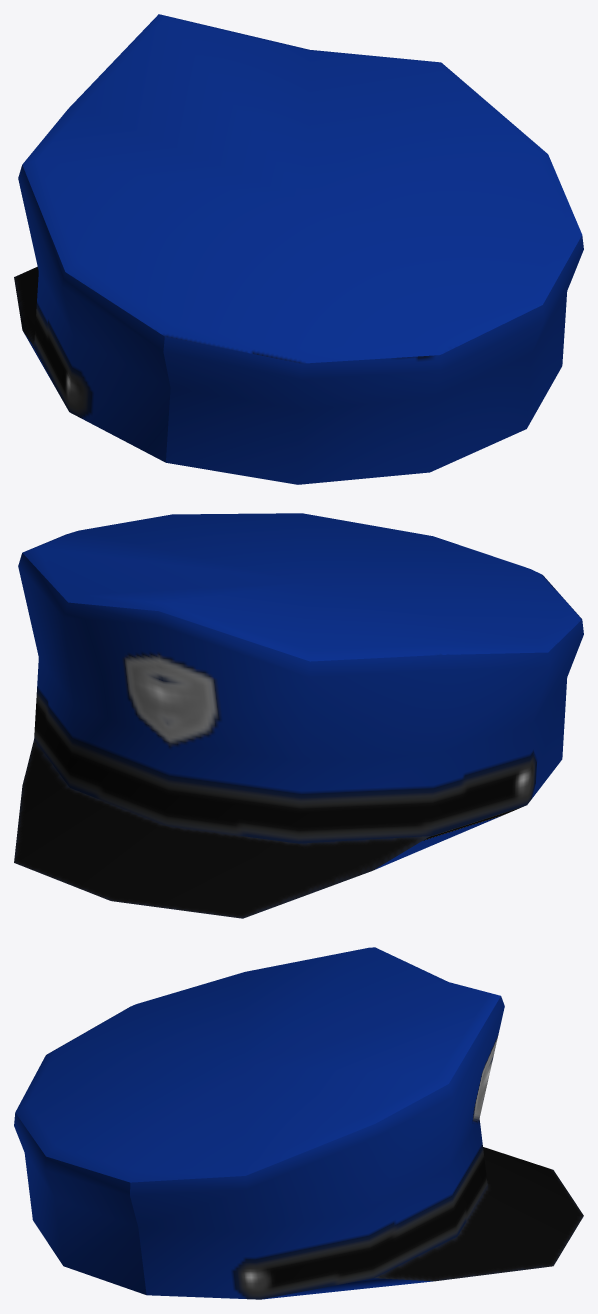
The model's file is hat.fbx.
The picture shows the model from 3 angles, top to bottom: view 1: azimuth 30°, elevation 25°; view 2: azimuth 150°, elevation 25°; view 3: azimuth 270°, elevation 25°; orthographic projection. The views are drawn at different scales.
Parts seen in each view (by area): view 1: Part1; view 2: Part1; view 3: Part1.
Boxes of the visible parts, x1,y1,x2,y2 form: Part1: [14, 14, 583, 484]; Part1: [14, 513, 583, 918]; Part1: [14, 947, 583, 1299].
Bounding box in the file's own units: 135 × 69.3 × 158.
